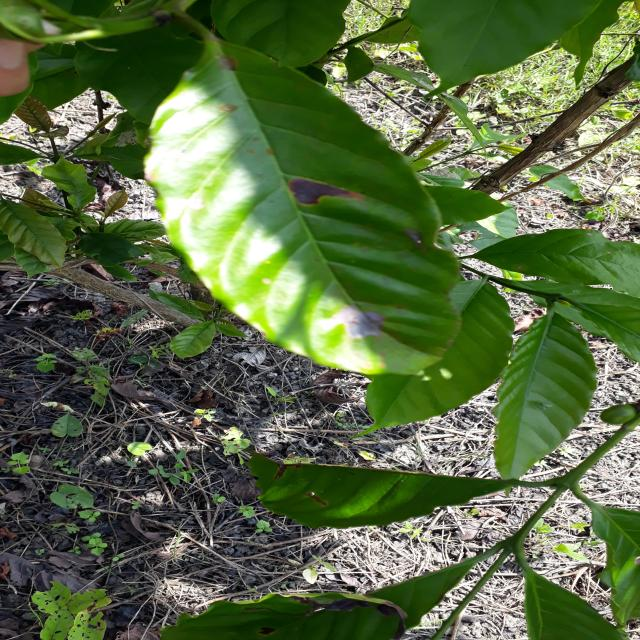Plaga-AranaRoja: (144, 33, 461, 378)
